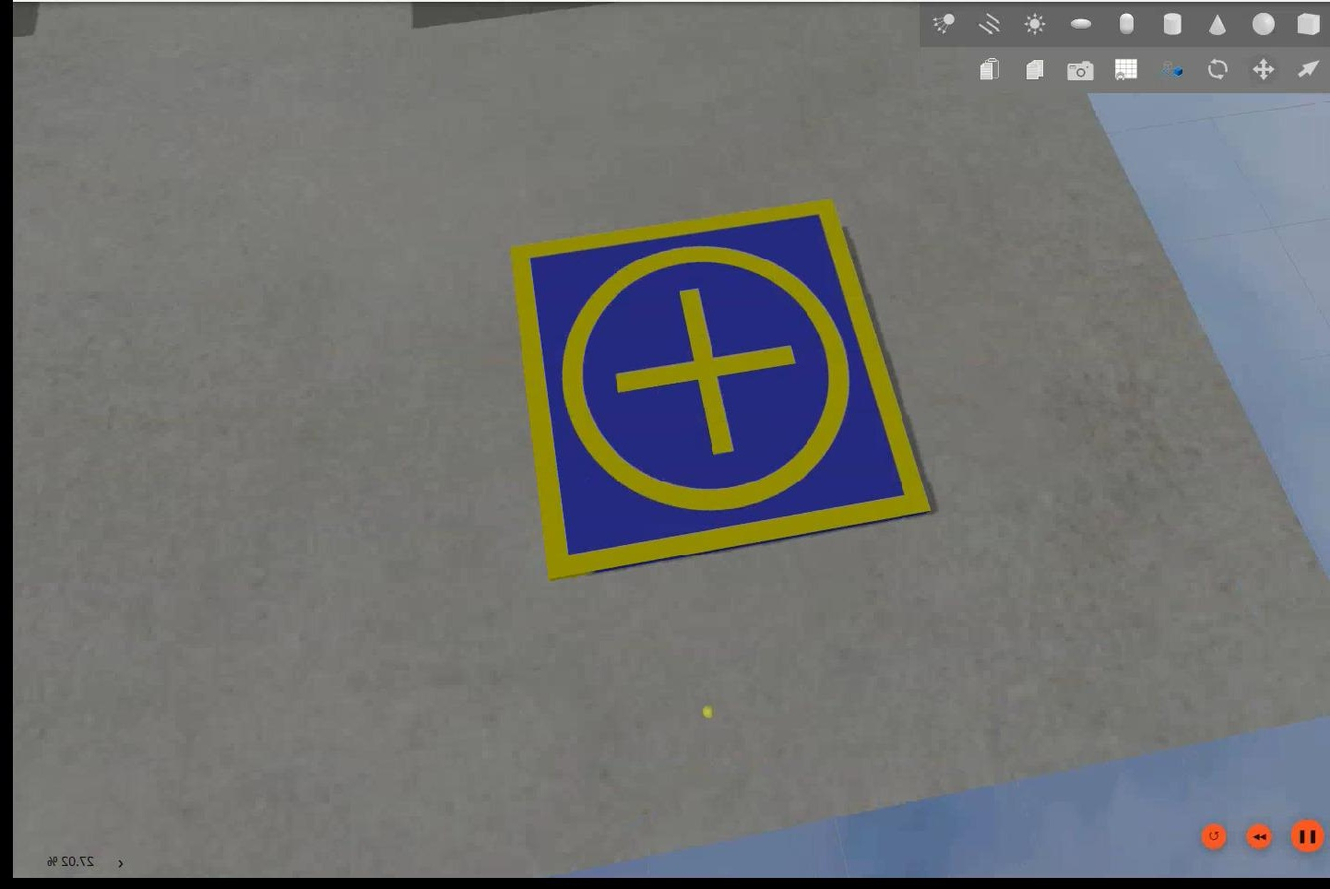small_base: (505, 197, 932, 586)
